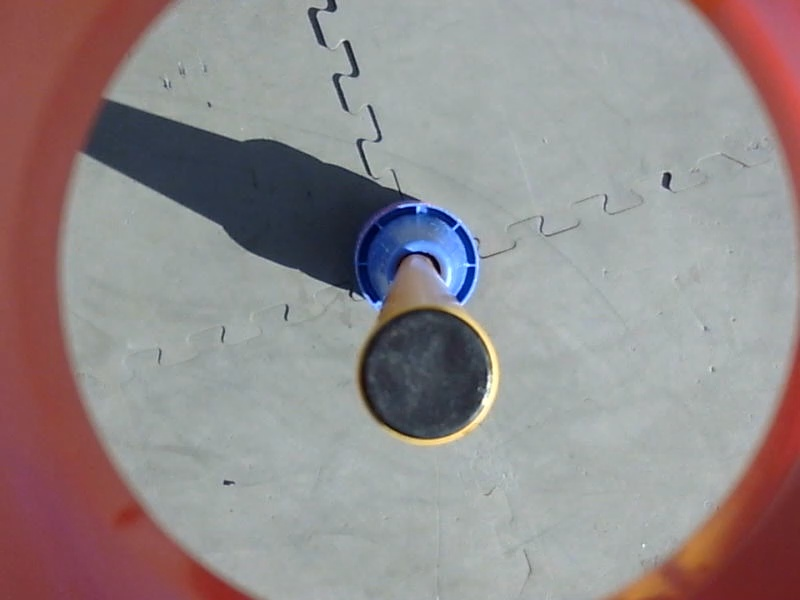tip: (351, 302, 506, 450)
